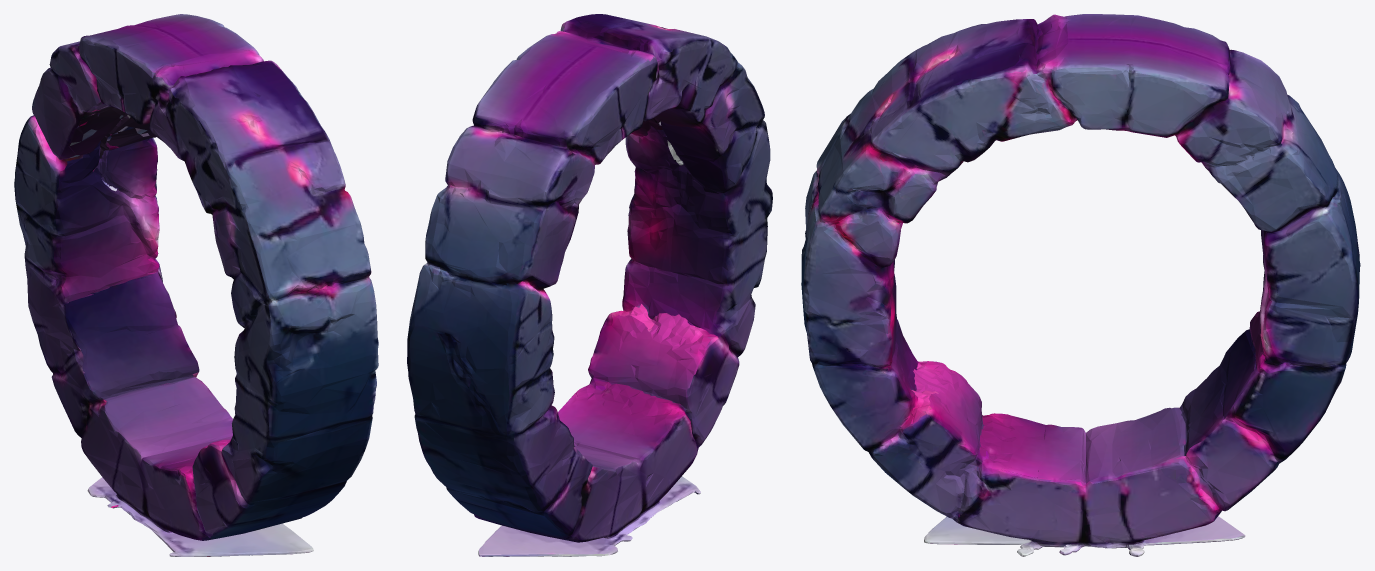
The model's file is ring-fragment-east-generated-2026-04-20T00-01-43-946Z.low.glb.
3 views of the same model, side by side, from view 1: azimuth 30°, elevation 25°; view 2: azimuth 150°, elevation 25°; view 3: azimuth 270°, elevation 25° (orthographic). The views are drawn at different scales.
Visible parts, largest first — view 1: temp_mesh.ply; view 2: temp_mesh.ply; view 3: temp_mesh.ply.
Part boxes in pixels (x1=…): temp_mesh.ply: x1=14, y1=14, x2=378, y2=556; temp_mesh.ply: x1=407, y1=14, x2=772, y2=556; temp_mesh.ply: x1=801, y1=14, x2=1360, y2=556.
Size of the model in its own units: 0.5942 by 1.89 by 1.97.
Materials: 1 (1 with a texture image).
